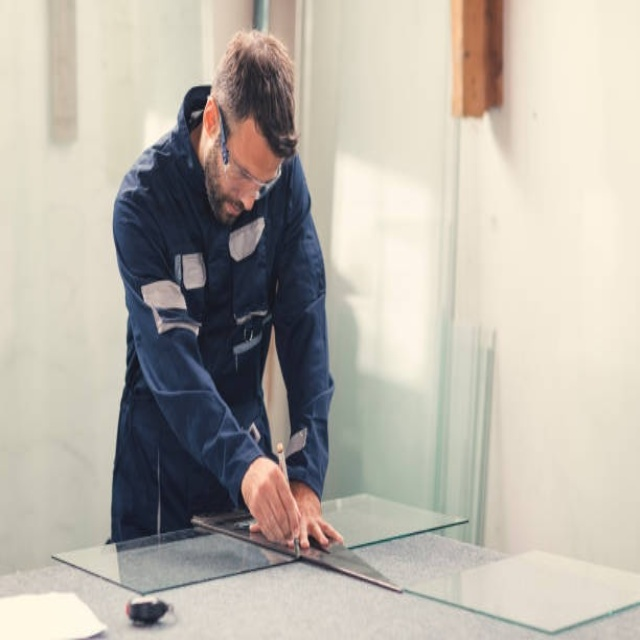Gafas: (215, 101, 283, 197)
Sin_guantes: (243, 462, 306, 550), (288, 478, 344, 554)
Sin_mascara: (215, 188, 249, 227)
